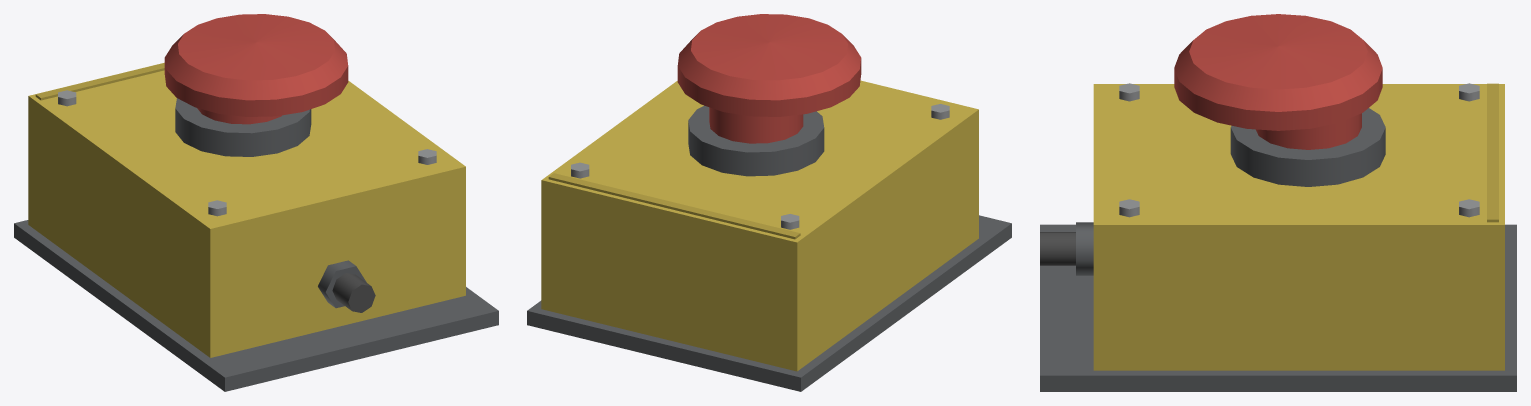
File: liButton_steel.glb
The picture shows the model from 3 angles, left to right: view 1: azimuth 30°, elevation 25°; view 2: azimuth 150°, elevation 25°; view 3: azimuth 270°, elevation 25°; orthographic projection. The views are drawn at different scales.
Visible parts, largest first — view 1: liButton_steel; view 2: liButton_steel; view 3: liButton_steel.
Part boxes in pixels (<box>): liButton_steel: <box>14,14,498,391</box>; liButton_steel: <box>527,14,1011,391</box>; liButton_steel: <box>1040,14,1516,391</box>.
Size of the model in its own units: 0.12 by 0.1 by 0.16.
